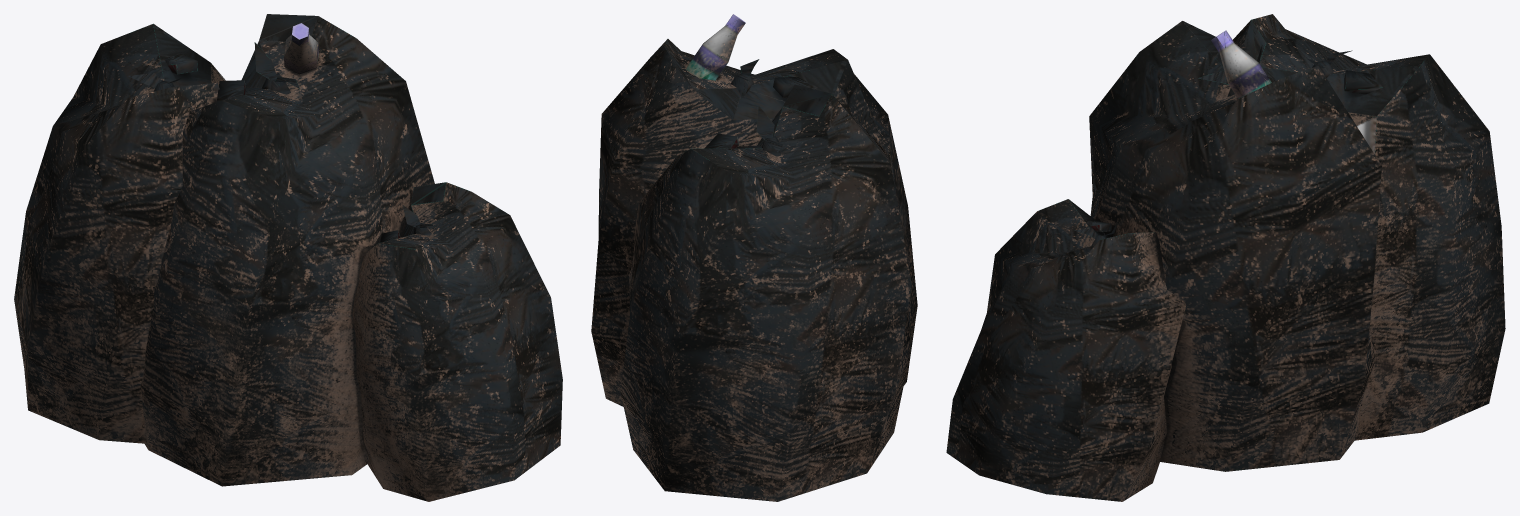
The model's file is rubbish4.fbx.
3 renders of one model, left to right at view 1: azimuth 30°, elevation 25°; view 2: azimuth 150°, elevation 25°; view 3: azimuth 270°, elevation 25°, orthographic. The views are drawn at different scales.
Parts seen in each view (by area): view 1: rubish4_LOD0; view 2: rubish4_LOD0; view 3: rubish4_LOD0.
Part boxes in pixels (<box>): rubish4_LOD0: <box>14,14,562,501</box>; rubish4_LOD0: <box>591,14,917,501</box>; rubish4_LOD0: <box>946,14,1505,501</box>.
Size of what is drawn, in the model's own units: 1.63 by 1.61 by 1.97.
